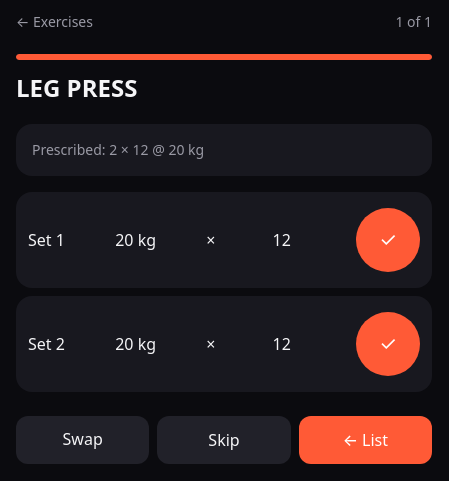
Test: SessionExercise — logging a set › only offers Undo for the most recently logged set, not earlier ones
This screenshot has width=449, height=481.
Click the button named "Log set 1" at (388, 240), box [356,208,420,272]
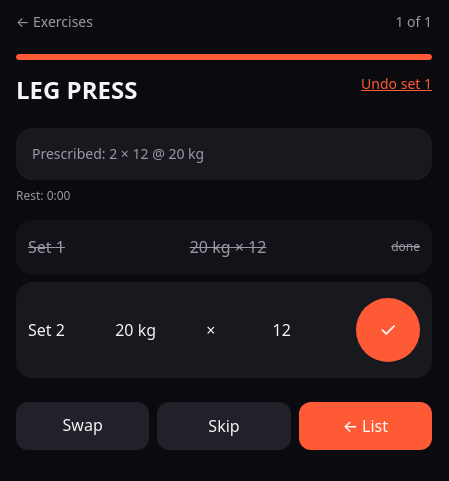
Now the button "Undo set 1" is shown, box [361,60,432,108]
Click the button named "Log set 2" at (388, 330), box [356,298,420,362]
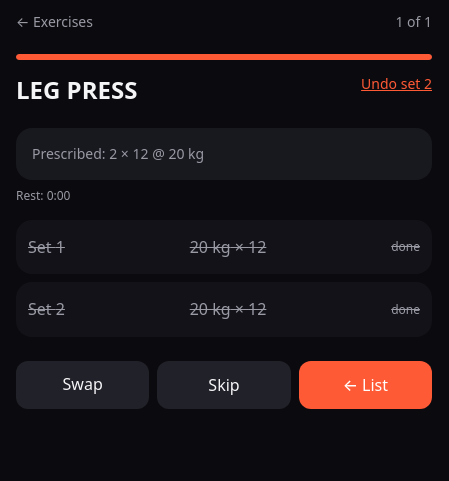
Now the button "Undo set 2" is shown, box [361,60,432,108]
Now the button "Undo set 1" is gone
